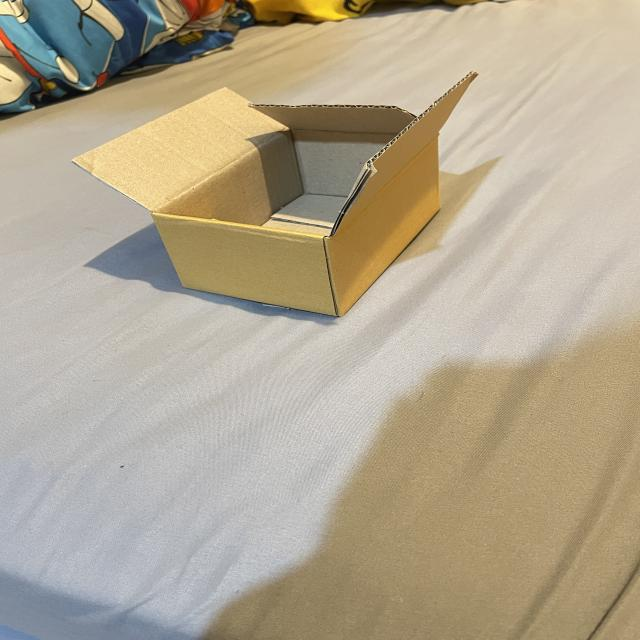box: (71, 70, 480, 318)
opened: (71, 69, 479, 241)
